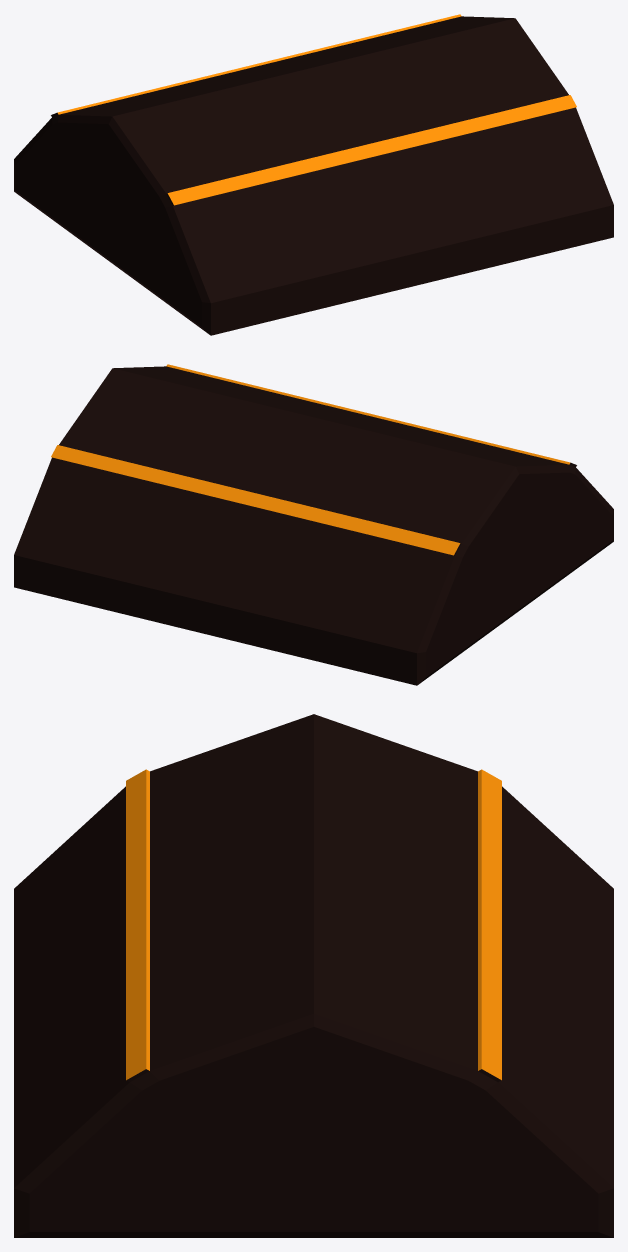
File: bauTampa.FBX
3 renders of one model, top to bottom at view 1: azimuth 30°, elevation 25°; view 2: azimuth 150°, elevation 25°; view 3: azimuth 270°, elevation 25°, orthographic. The views are drawn at different scales.
Parts seen in each view (by area): view 1: Object003; view 2: Object003; view 3: Object003.
Part boxes in pixels (bbox=[...]): Object003: bbox=[14, 14, 613, 335]; Object003: bbox=[14, 364, 613, 685]; Object003: bbox=[14, 714, 613, 1237].
Size of the model in its own units: 65.18 by 22.32 by 54.14.
